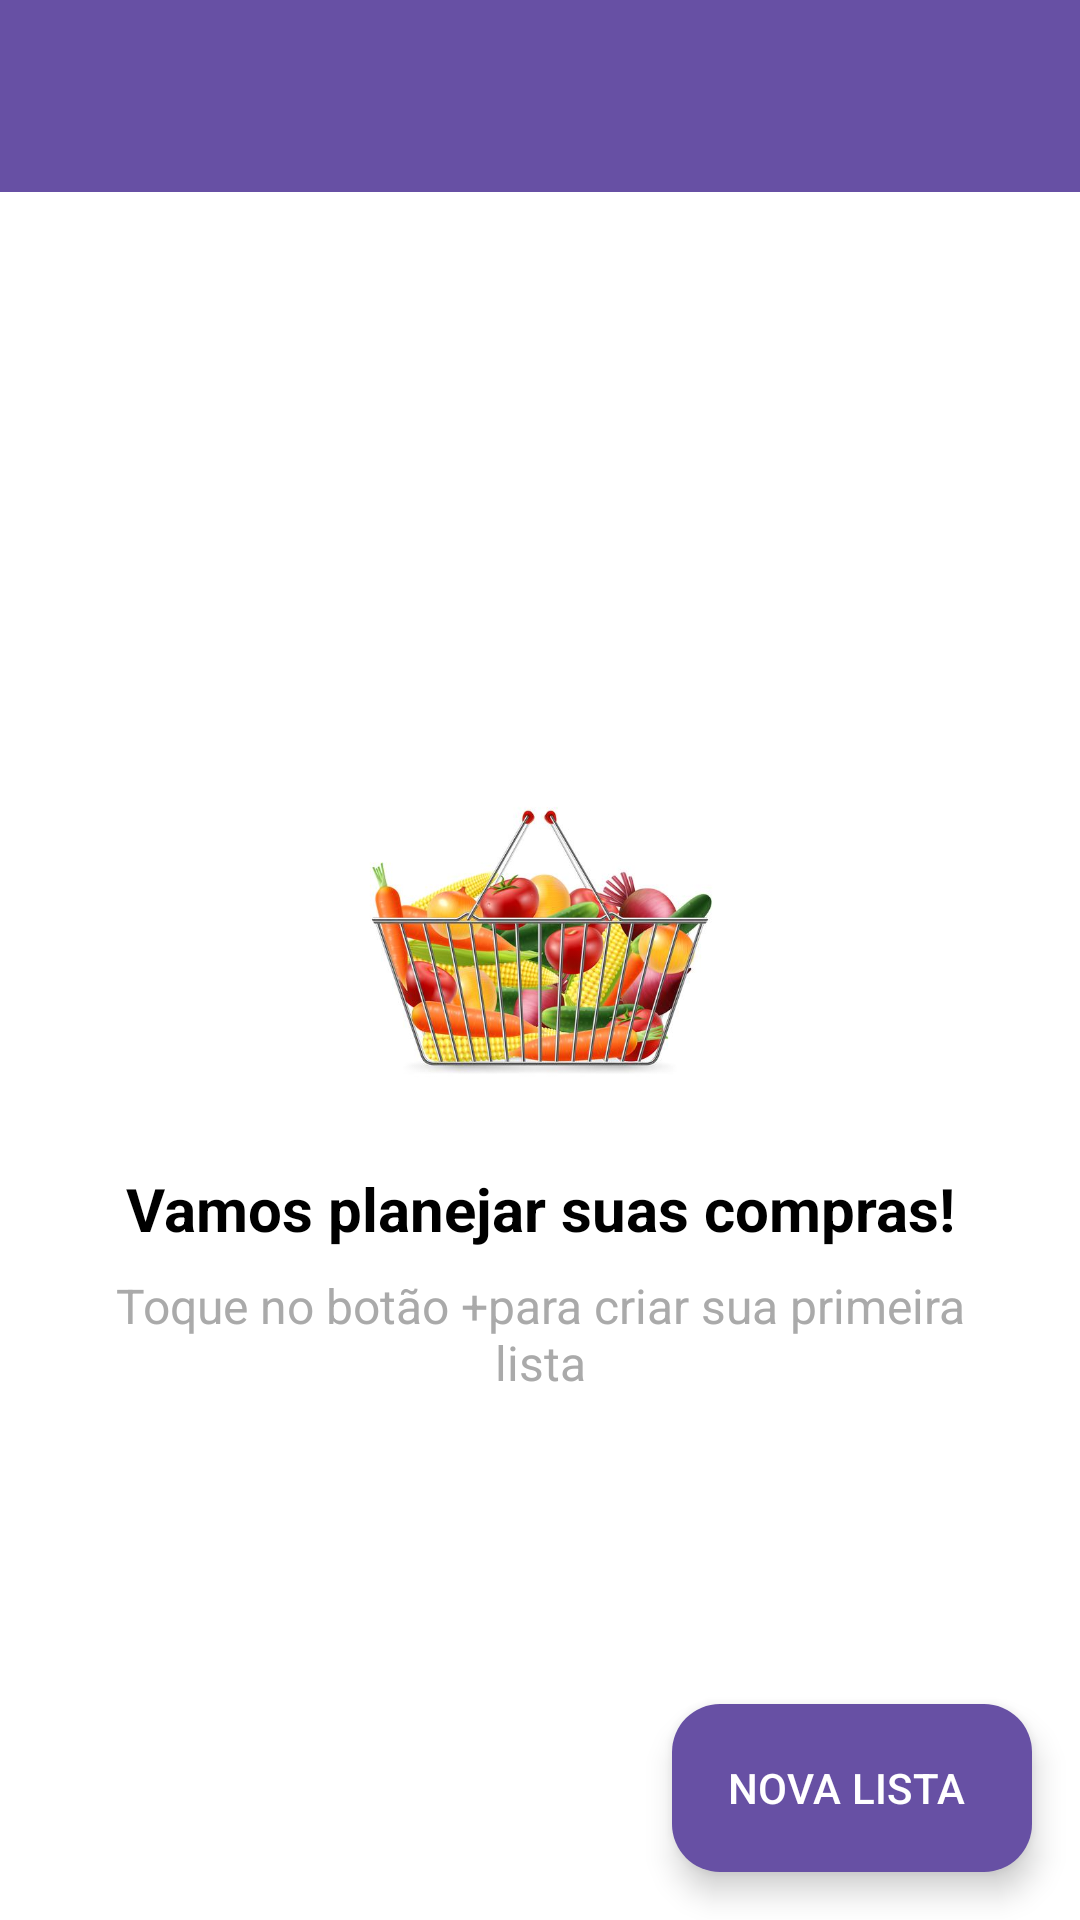

Where to tap for icons on this 1080*1920 app screen, as (x,y):
Cesta de compras: (542,940)
